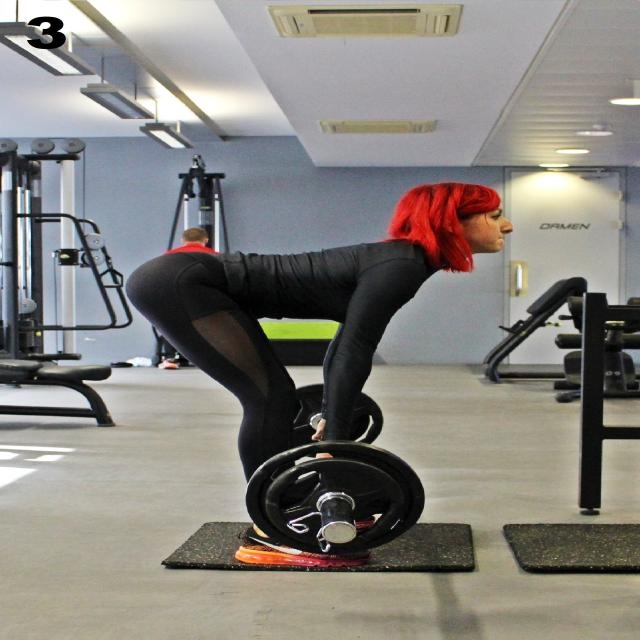deadlift: (102, 175, 526, 580)
